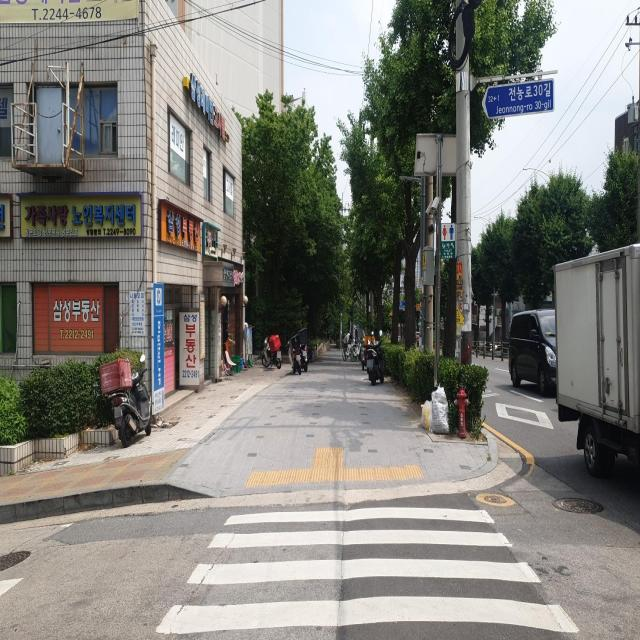횡단보도: (157, 507, 583, 639)
